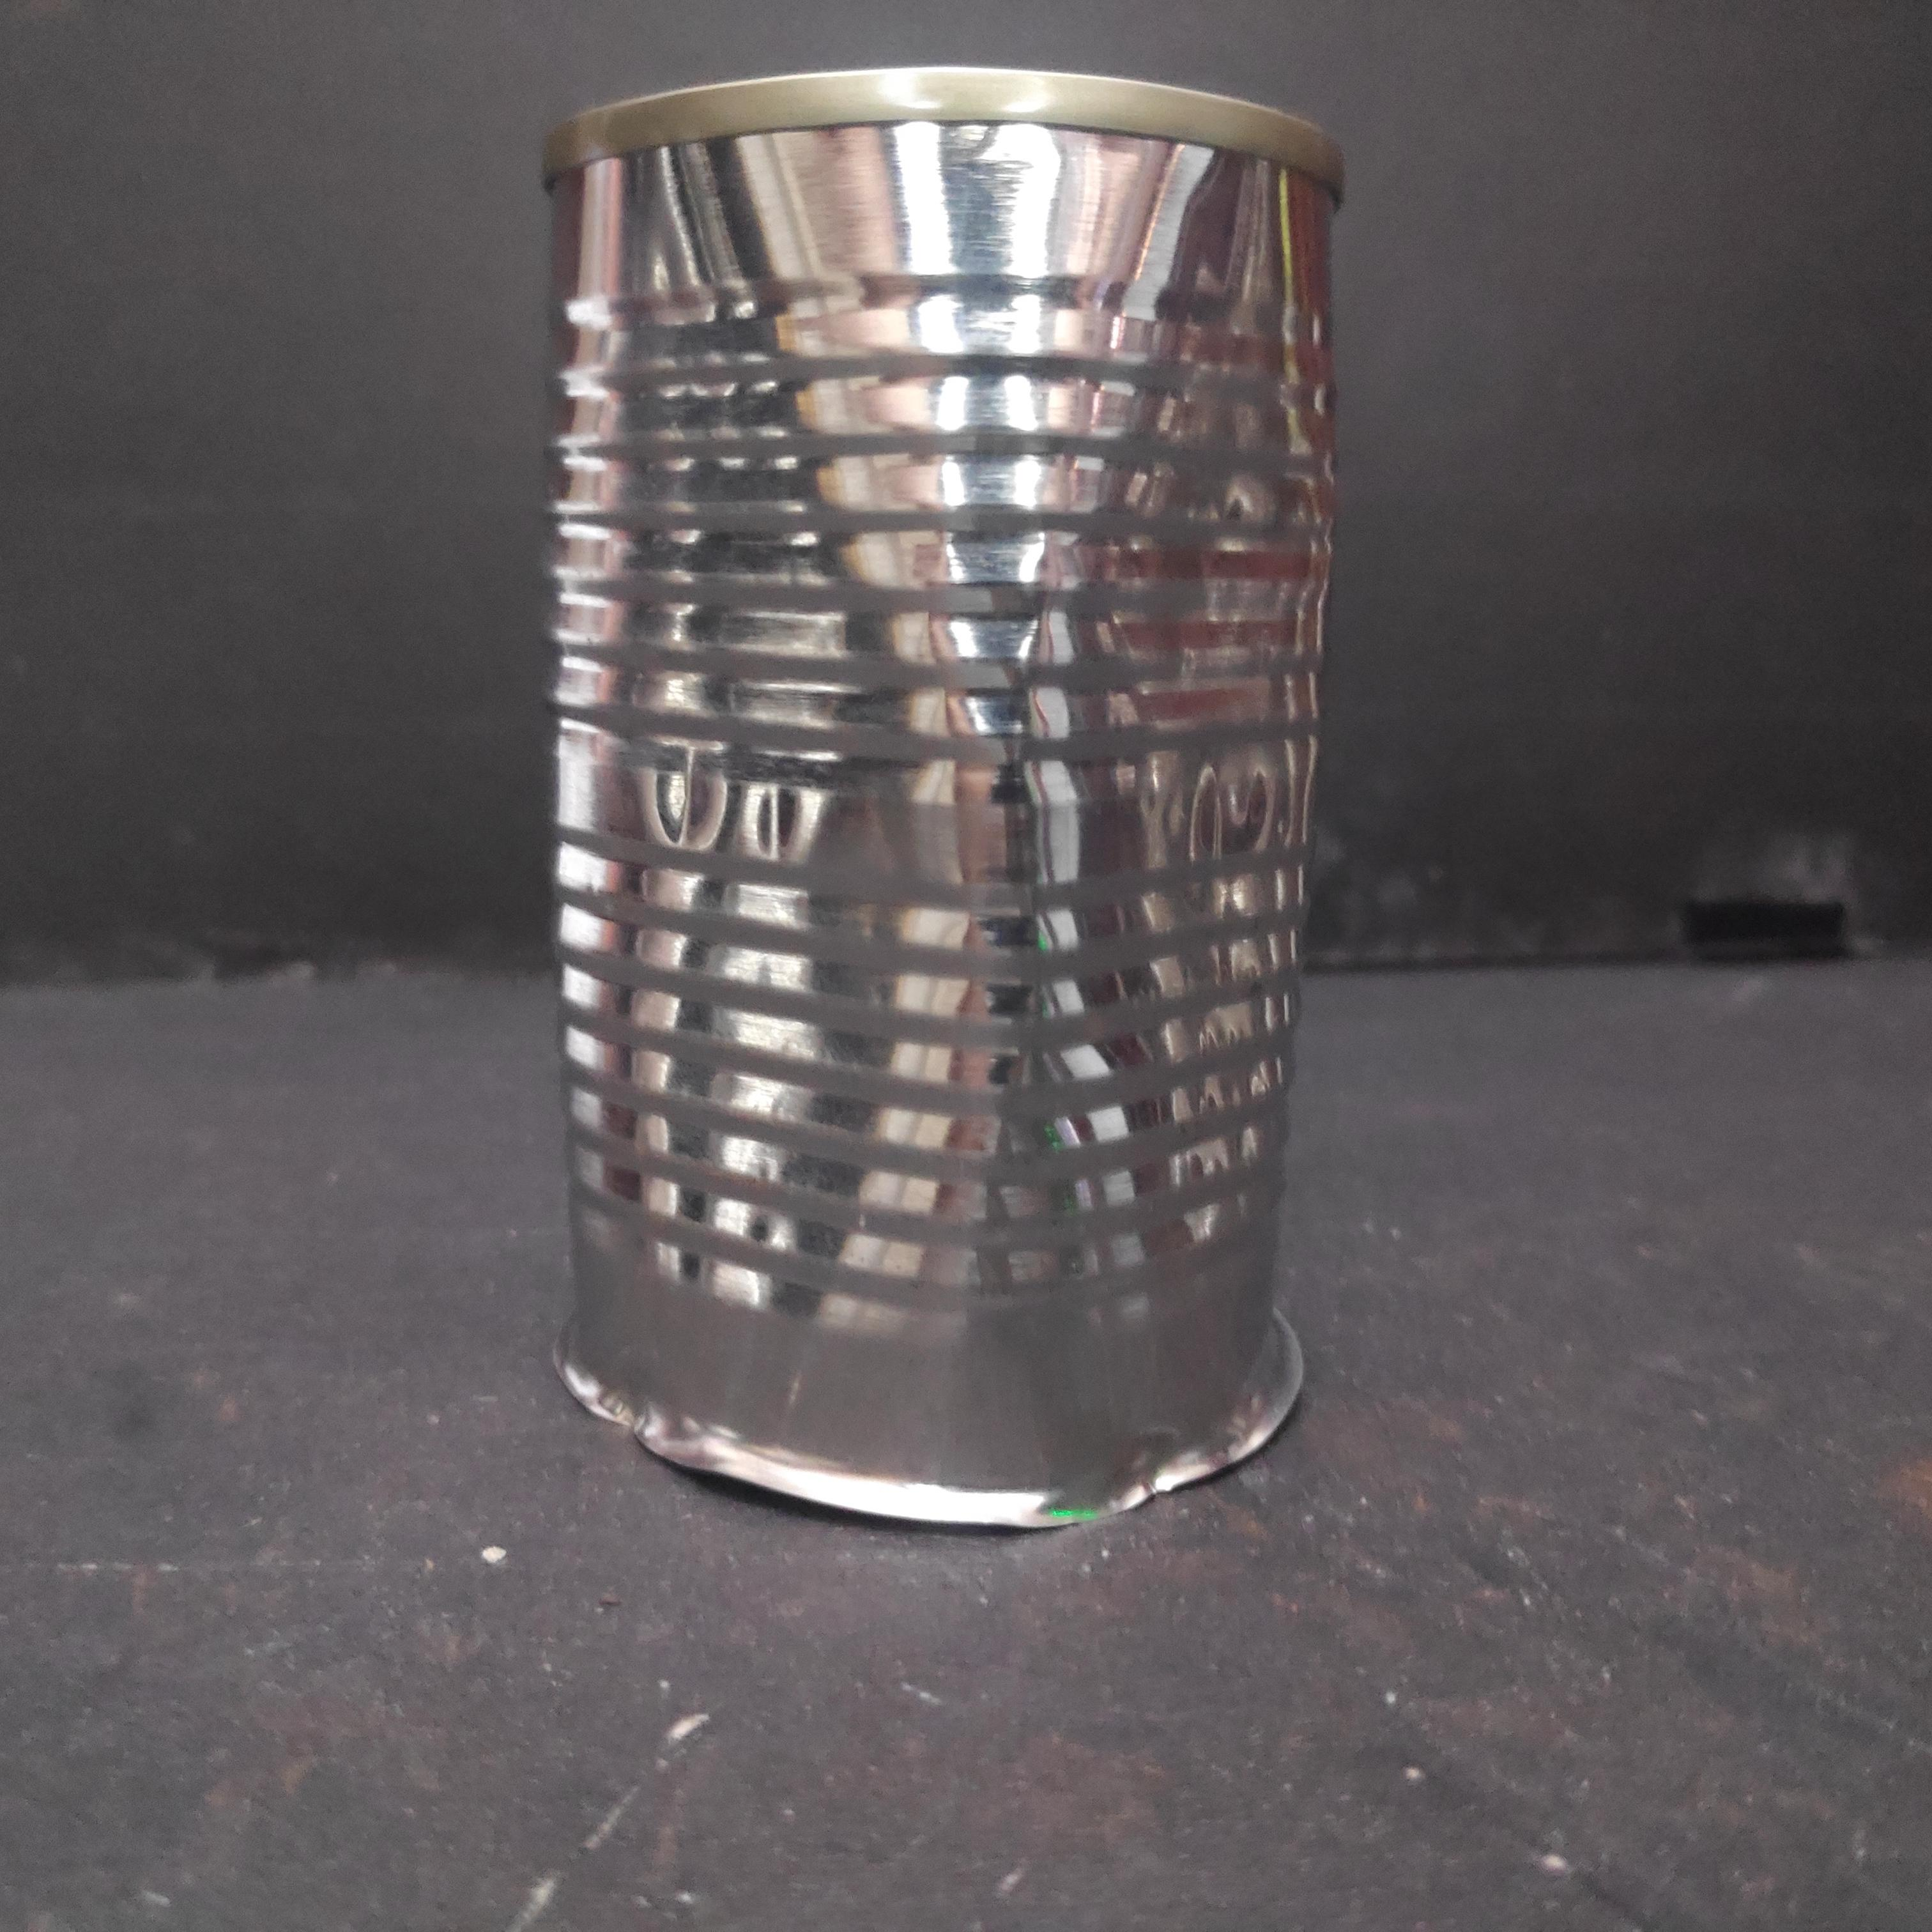Minor Defect: (515, 51, 1366, 1555)
